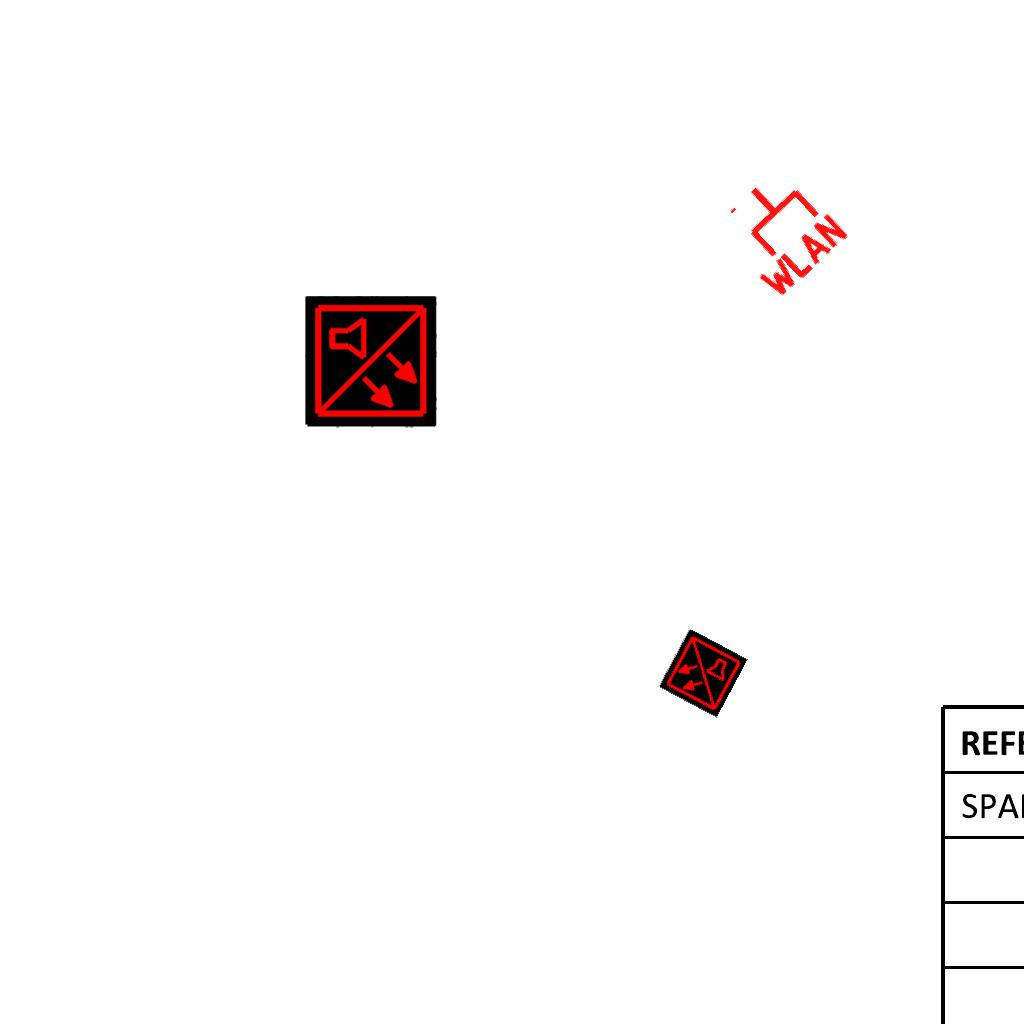OKW_Multisensormelder_(Kombination_optischer_Rauch-Kahlenmonoxid_Waerme-Melder): (305, 296, 437, 428), (658, 628, 748, 718)
WLAN: (705, 157, 854, 305)
